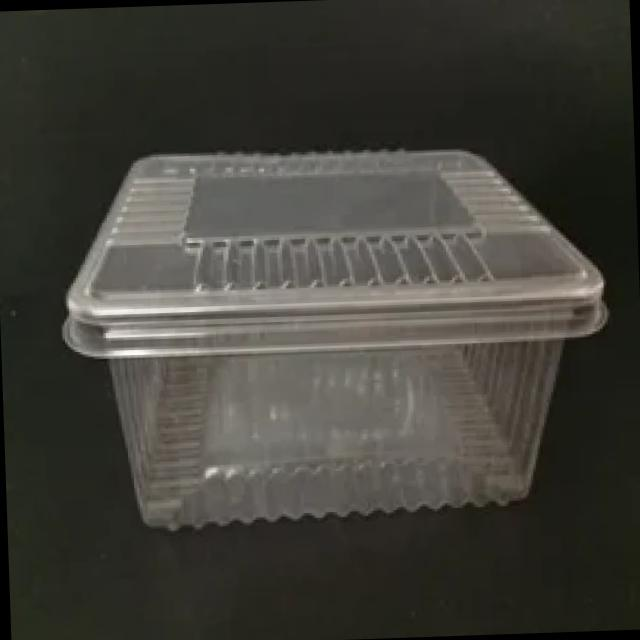plastic_box: (38, 133, 636, 559)
